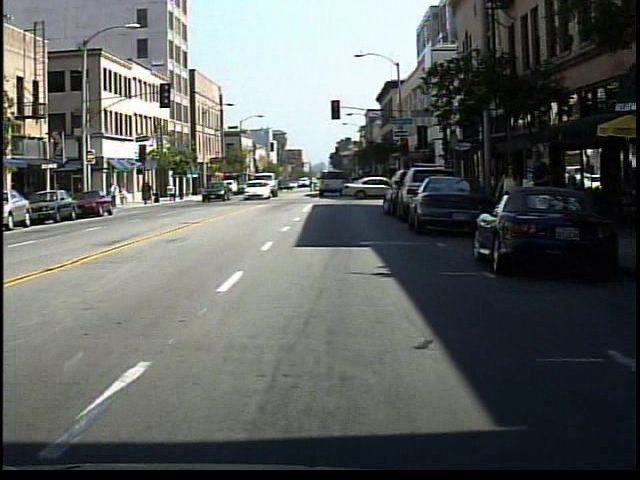person: (519, 144, 553, 251), (496, 155, 523, 248), (121, 185, 135, 211), (108, 181, 122, 204)
